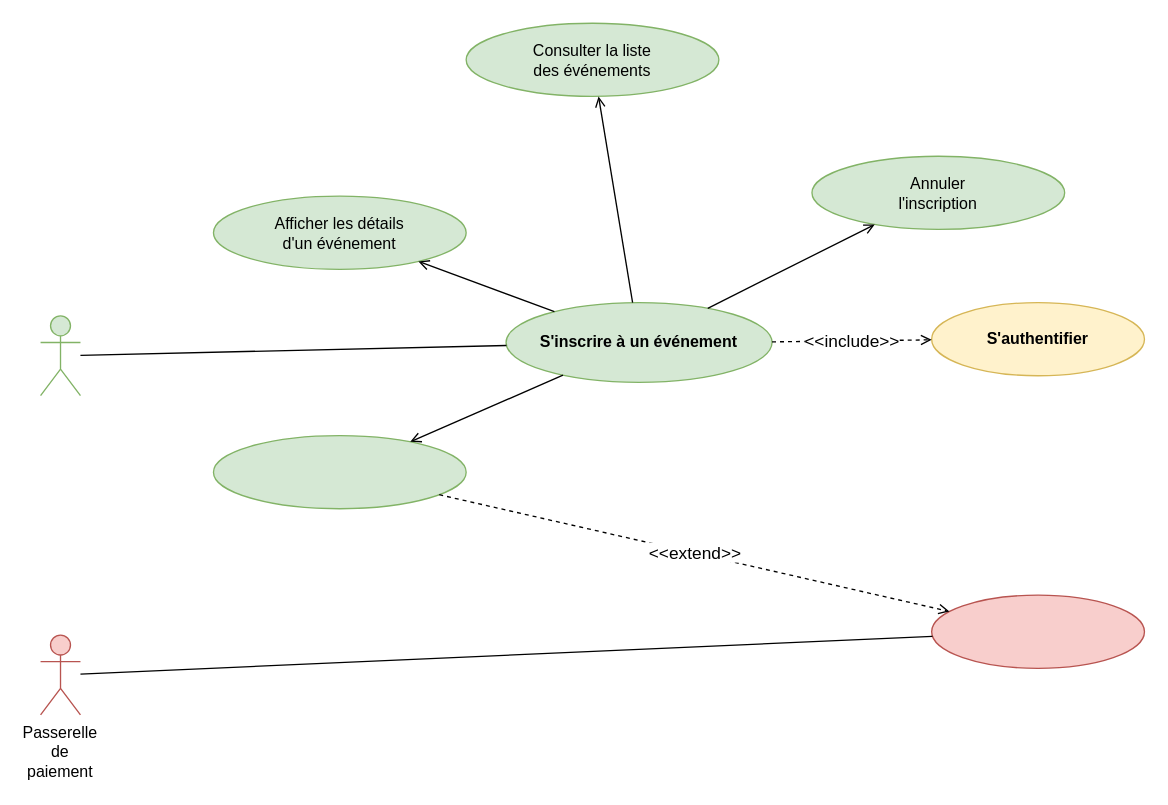
This 1168x805 diagram has some shape labels left out. The shapes that lost their labels are listed below. From the top down, each one's centre as x and y in pixels, then its label:
[59,355]: Membre
[339,471]: Confirmer l'inscription
[1037,631]: Traiter le paiement
